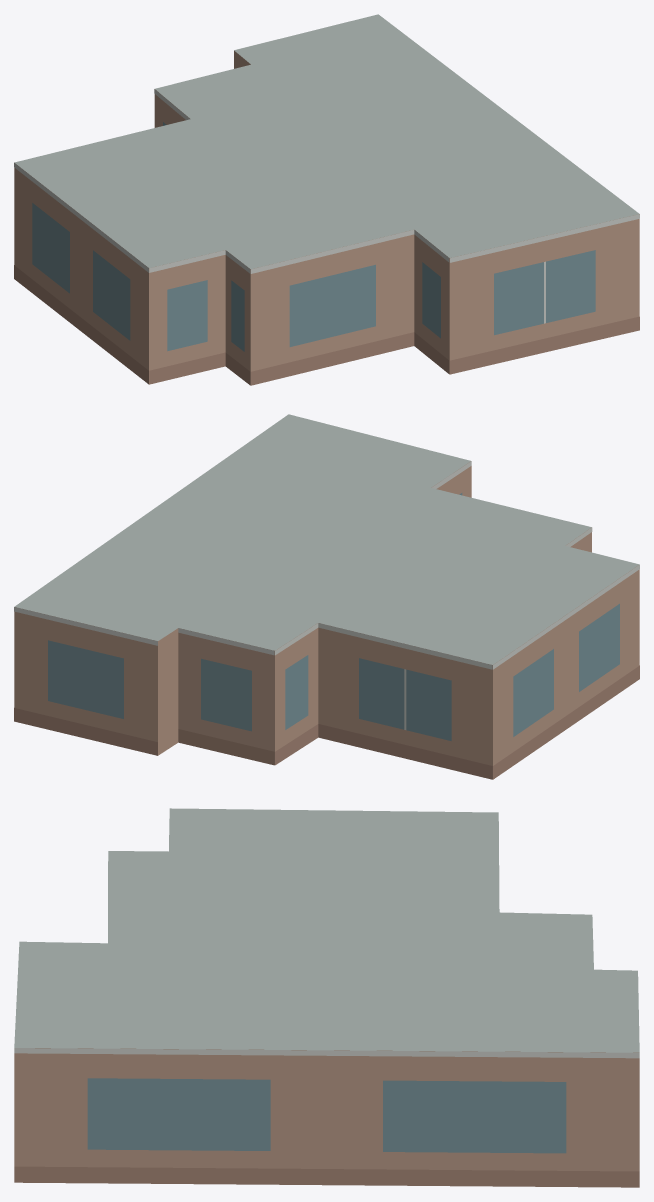
File: survey-upis-33034631.glb
3 views of the same model, one above another, from view 1: azimuth 30°, elevation 25°; view 2: azimuth 150°, elevation 25°; view 3: azimuth 270°, elevation 25° (orthographic). The views are drawn at different scales.
Parts seen in each view (by area): view 1: survey-upis-33034631.tmp; view 2: survey-upis-33034631.tmp; view 3: survey-upis-33034631.tmp.
Part boxes in pixels (x1,y1,x2,y2): survey-upis-33034631.tmp: (14, 14, 639, 385); survey-upis-33034631.tmp: (14, 414, 639, 779); survey-upis-33034631.tmp: (14, 808, 639, 1187).
Size of the model in its own units: 11.87 by 3.05 by 12.84.
